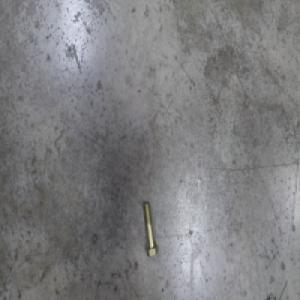Bolt: (142, 204, 159, 261)
